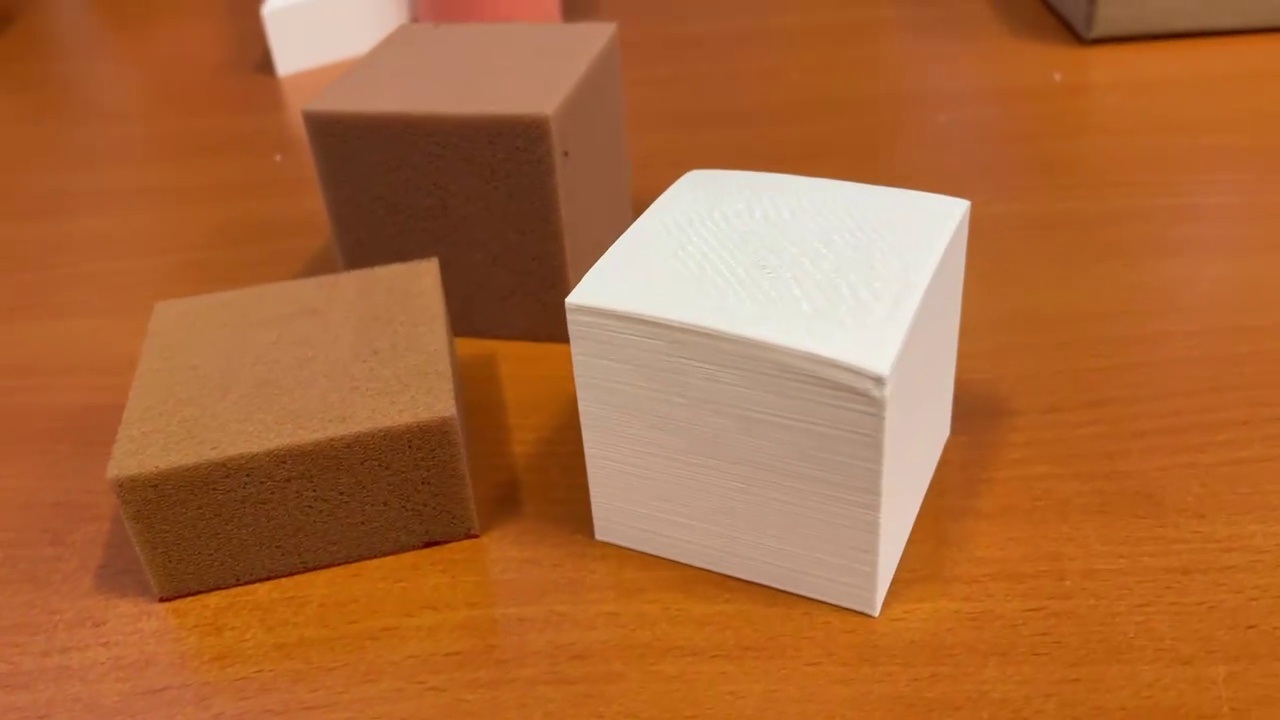Cube: (563, 165, 984, 625), (296, 16, 639, 346)
Cube_short: (104, 250, 493, 613)
